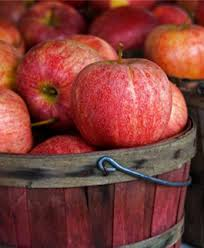apple: (26, 34, 120, 127), (73, 60, 175, 143), (93, 7, 155, 56), (149, 20, 204, 75), (23, 2, 79, 42), (2, 89, 36, 154)
